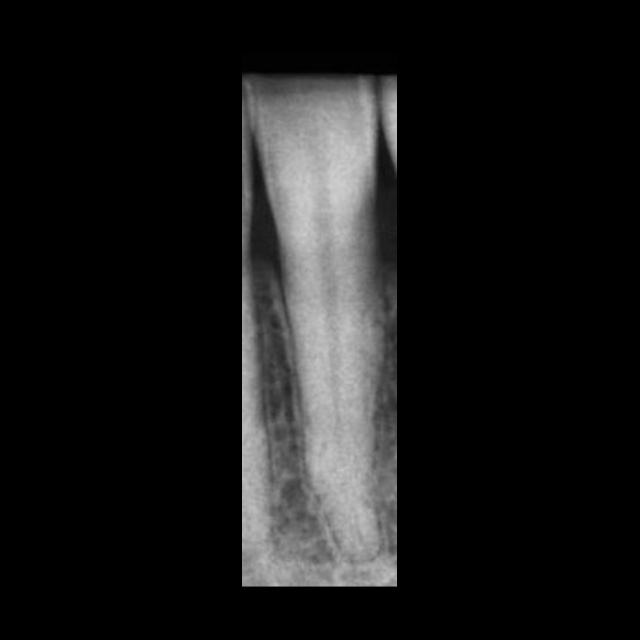tooth: (245, 75, 382, 563)
